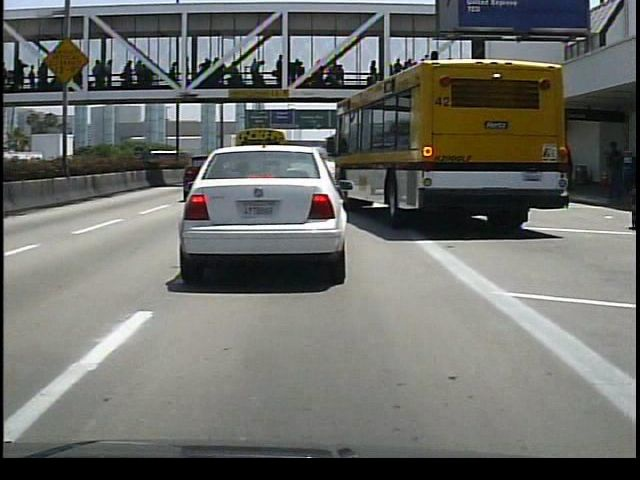person: (602, 141, 631, 206)
